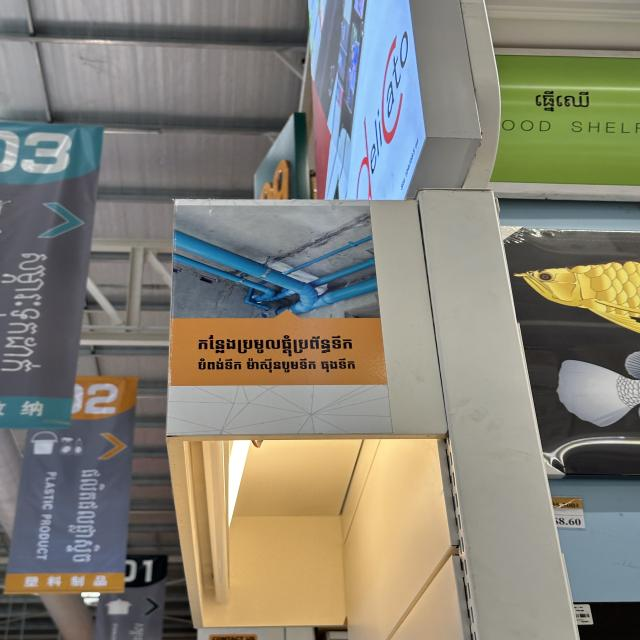Yolov11kh: (190, 330, 356, 355), (189, 356, 361, 376)
